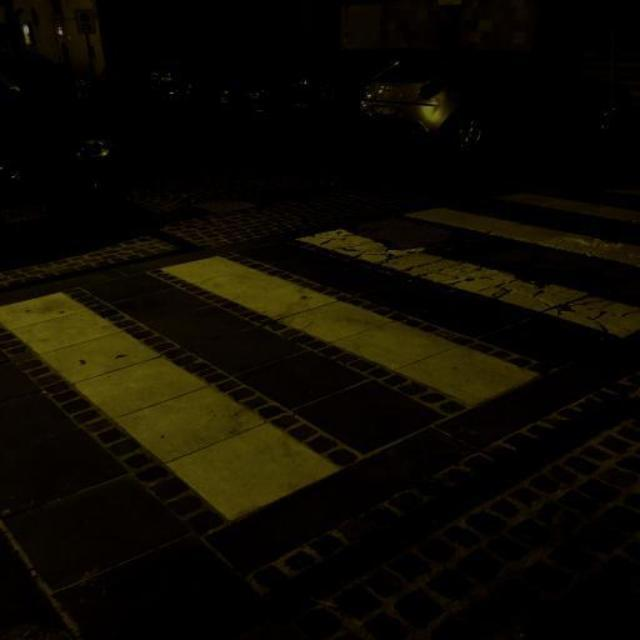sidewalk: (2, 174, 639, 521)
